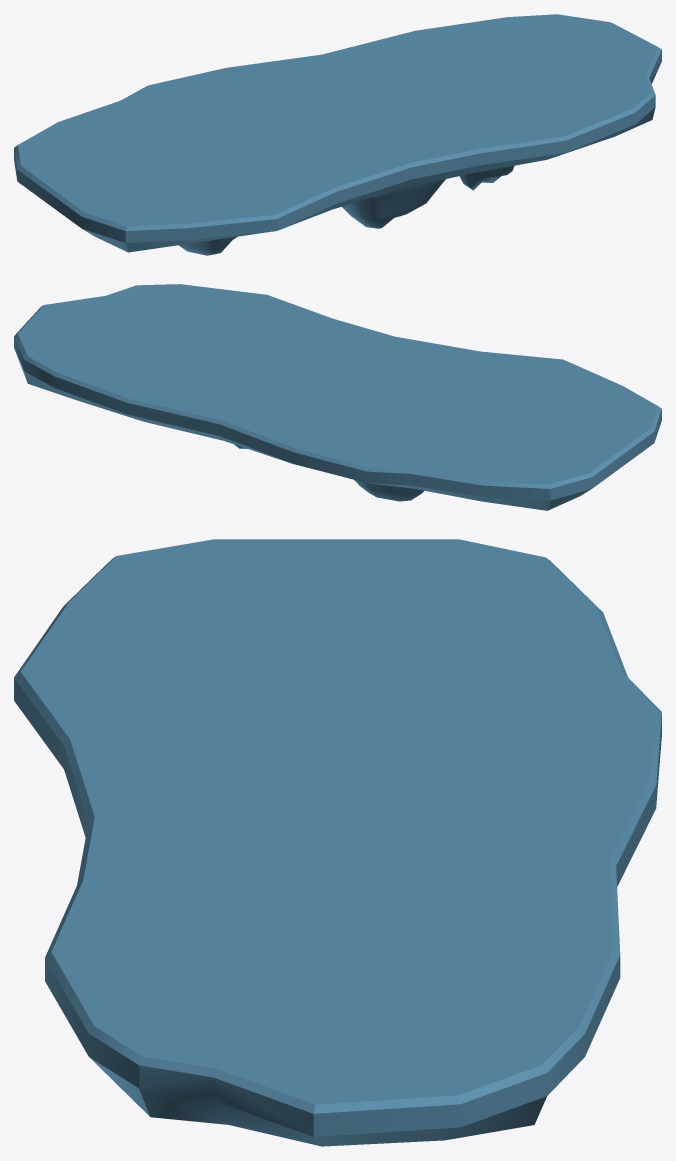
File: Sari_Island.fbx
3 renders of one model, top to bottom at view 1: azimuth 30°, elevation 25°; view 2: azimuth 150°, elevation 25°; view 3: azimuth 270°, elevation 25°, orthographic. The views are drawn at different scales.
Visible parts, largest first — view 1: pCube28, pCube30, pCube31, pCube33; view 2: pCube28, pCube34; view 3: pCube28.
Part boxes in pixels (box(x1,y1,x2,y2)): pCube28: box(14, 14, 661, 252); pCube30: box(342, 179, 445, 228); pCube31: box(459, 165, 514, 190); pCube33: box(179, 236, 237, 255); pCube28: box(14, 284, 661, 510); pCube34: box(354, 480, 424, 501); pCube28: box(14, 539, 661, 1146).
Bounding box in the file's own units: 128 × 18.9 × 61.49.
